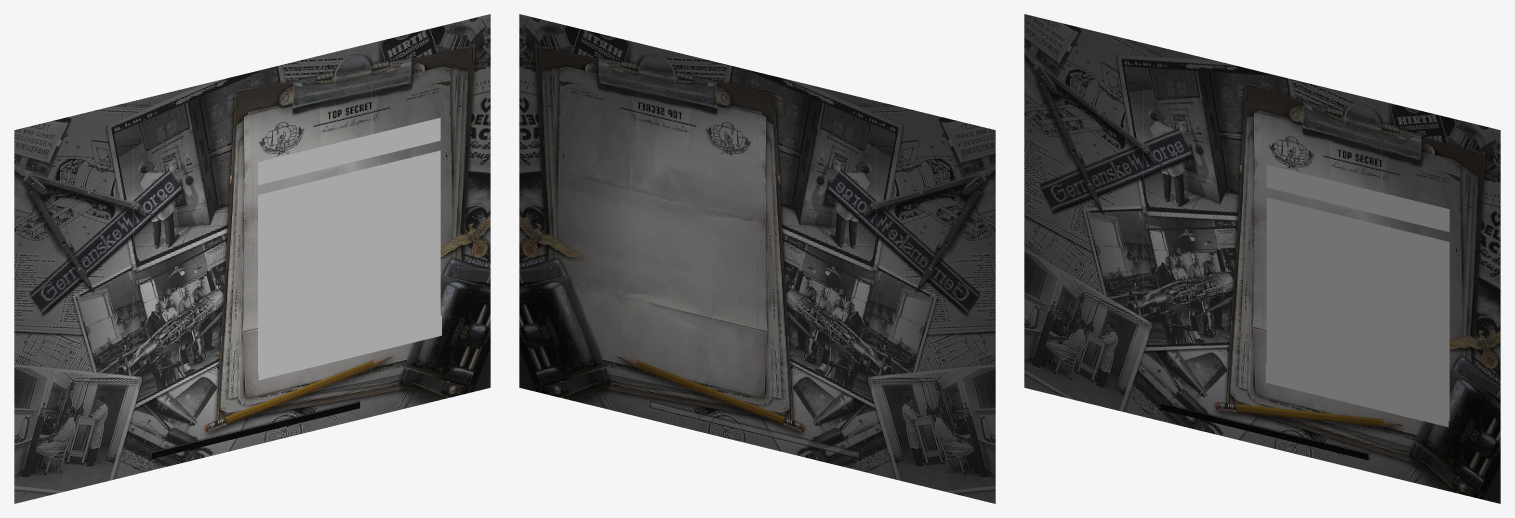
Rendered from Loader.fbx.
The picture shows the model from 3 angles, left to right: view 1: azimuth 30°, elevation 25°; view 2: azimuth 150°, elevation 25°; view 3: azimuth 330°, elevation 25°; orthographic projection.
Visible parts, largest first — view 1: screen, briefing, title, textbar, loadbar; view 2: screen; view 3: screen, briefing, title, textbar, loadbar.
Part boxes in pixels (x1,y1,x2,y2): screen: (14,14,490,503); briefing: (258,150,440,373); title: (258,117,440,184); textbar: (258,315,441,380); loadbar: (151,402,359,458); screen: (519,14,995,503); screen: (1024,14,1500,503); briefing: (1266,197,1449,420); title: (1266,164,1449,231); textbar: (1265,362,1448,427); loadbar: (1160,403,1368,460).
Size of the model in its own units: 100 by 75 by 0.6037.
